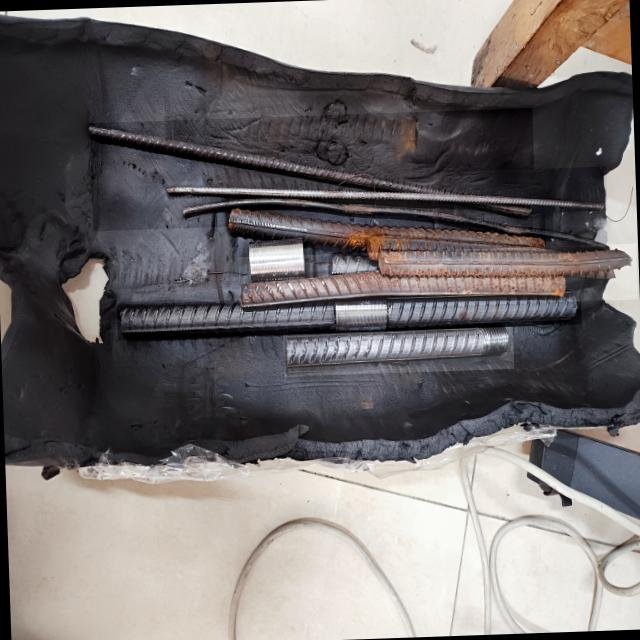Sleeve joint: (245, 236, 307, 282), (330, 300, 390, 332)
Welded link: (378, 240, 570, 304), (364, 214, 546, 268)
ribbed bar: (88, 107, 536, 231), (238, 243, 638, 313), (230, 192, 554, 277), (165, 167, 607, 226), (116, 288, 582, 340), (282, 326, 514, 376)
